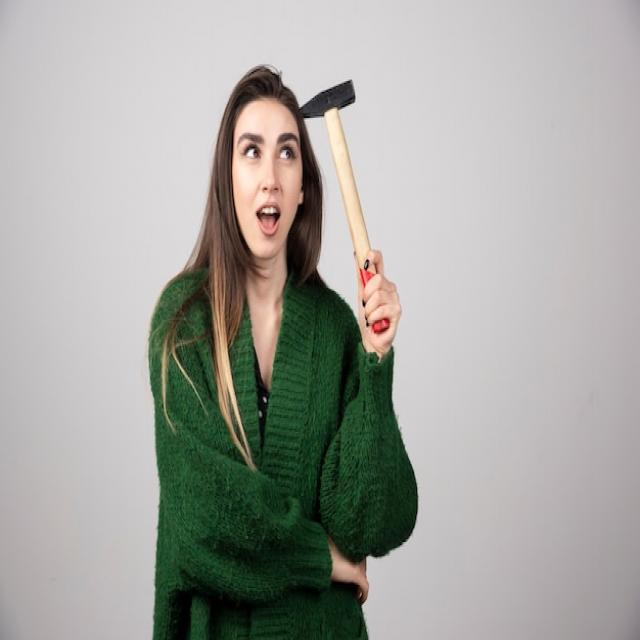hammer: (289, 72, 396, 366)
